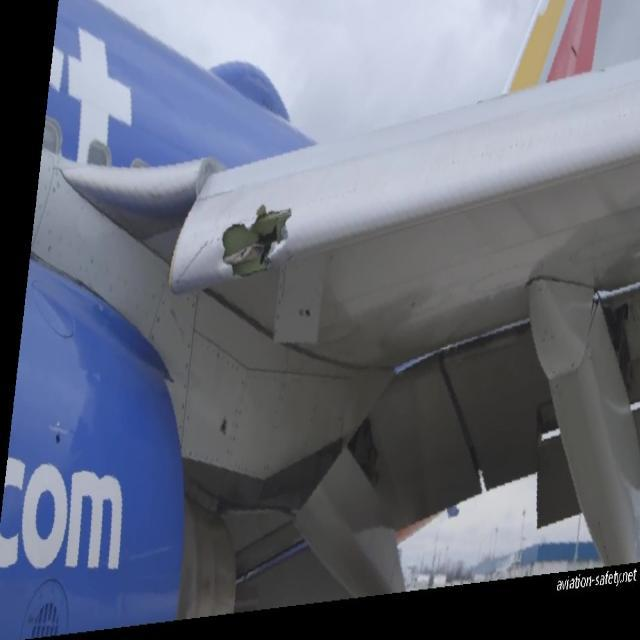crack: (219, 202, 296, 286)
